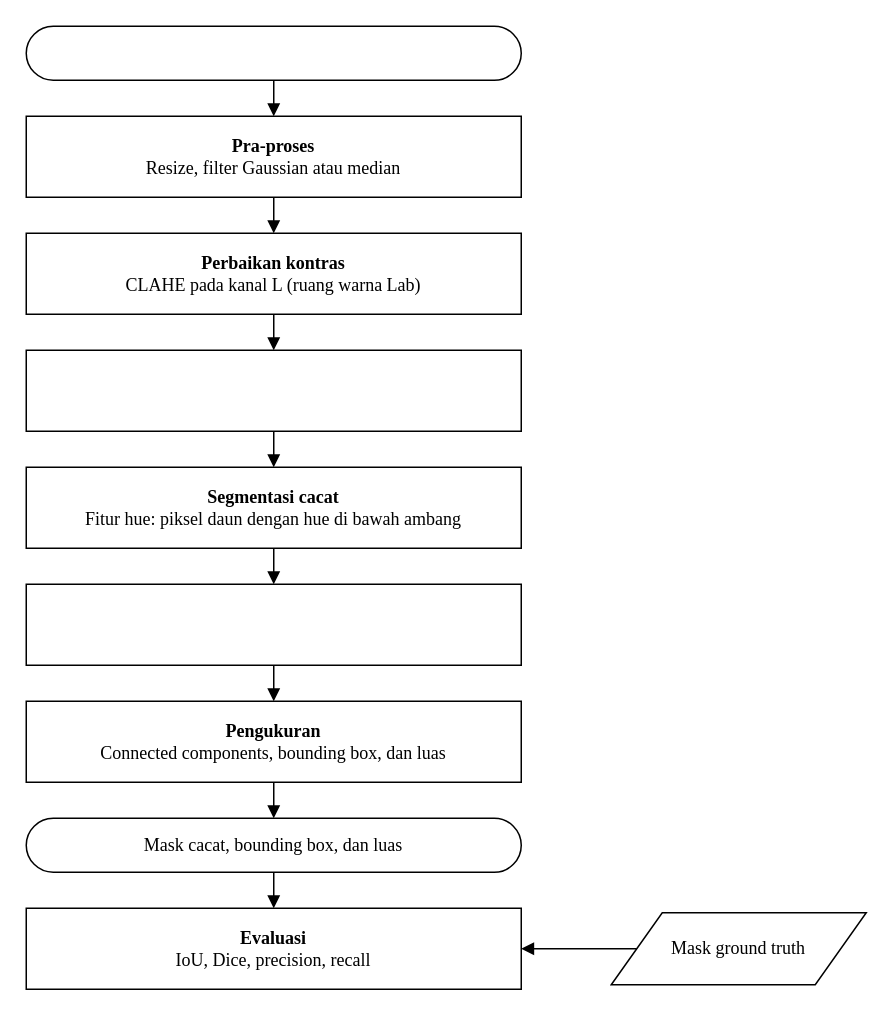
This 893x1016 diagram has some shape labels left out. The shapes that lost their labels are listed below. From the top down, each one's box as (x1, y1, x2, y2) in pixels, then its label:
(25, 25, 521, 80): Citra masukan
(25, 349, 521, 431): Segmentasi daun Ambang Otsu, pilih komponen daun, hole filling, convex hull
(25, 583, 521, 665): Operasi morfologi Opening, closing, buang komponen kecil
